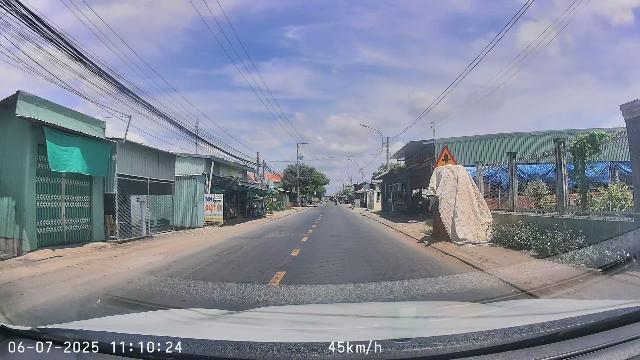207-giao-nhau-voi-duong-khong-uu-tien: (436, 146, 457, 165)
